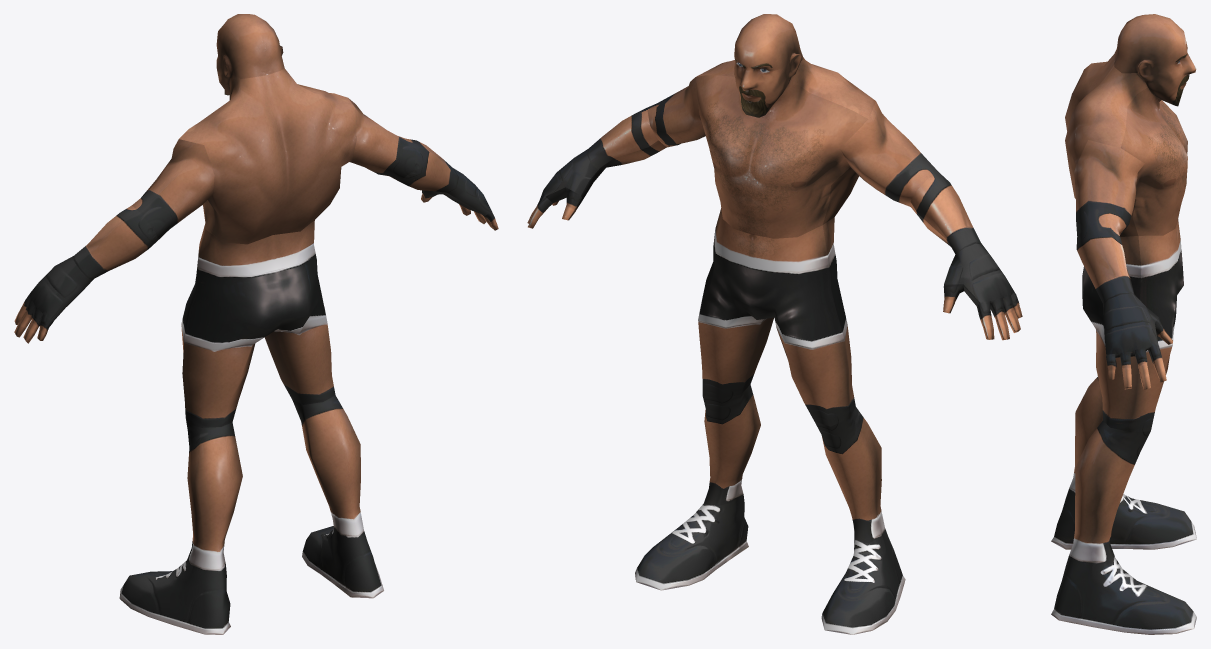
File: cartoon_fighter_goldrerg.glb
The picture shows the model from 3 angles, left to right: view 1: azimuth 30°, elevation 25°; view 2: azimuth 150°, elevation 25°; view 3: azimuth 270°, elevation 25°; orthographic projection. The views are drawn at different scales.
Visible parts, largest first — view 1: g; view 2: g; view 3: g.
Boxes of the visible parts, x1,y1,x2,y2 form: g: (14,14,498,634); g: (527,14,1022,634); g: (1051,14,1196,634).
Bounding box in the file's own units: 1.75 × 2 × 0.4702.
Materials: 1 (1 with a texture image).
